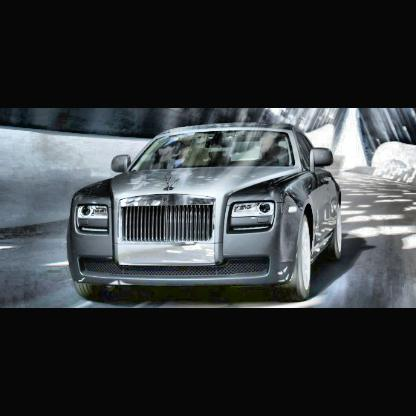Rolls-Royce Ghost Sedan 2012: (71, 123, 344, 301)
